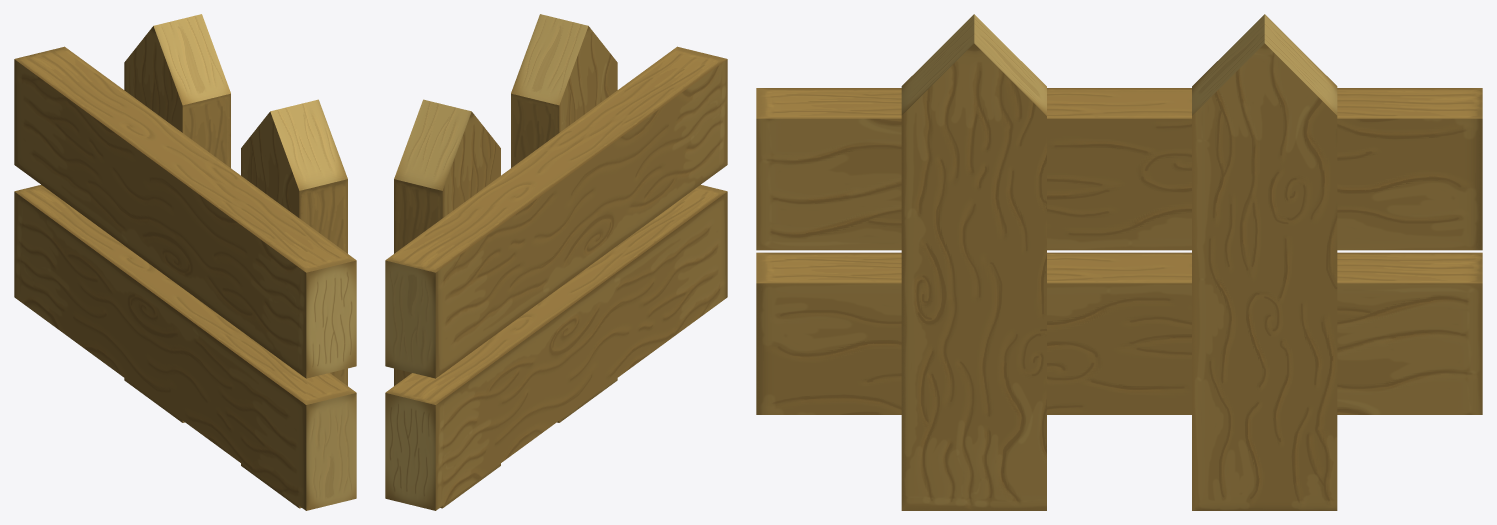
Rendered from Fence_ForestProp_002.fbx.
The picture shows the model from 3 angles, left to right: view 1: azimuth 30°, elevation 25°; view 2: azimuth 150°, elevation 25°; view 3: azimuth 270°, elevation 25°; orthographic projection. The views are drawn at different scales.
Parts seen in each view (by area): view 1: 立方体.006, 立方体.007, 立方体.008, 立方体.009; view 2: 立方体.006, 立方体.007, 立方体.009, 立方体.008; view 3: 立方体.006, 立方体.007, 立方体.008, 立方体.009.
Boxes of the visible parts, <box> form: 立方体.006: <box>14,46,356,378</box>; 立方体.007: <box>14,185,356,510</box>; 立方体.008: <box>241,99,347,508</box>; 立方体.009: <box>124,14,230,422</box>; 立方体.006: <box>385,46,727,378</box>; 立方体.007: <box>385,185,727,510</box>; 立方体.009: <box>394,99,500,508</box>; 立方体.008: <box>511,14,617,422</box>; 立方体.006: <box>756,88,1482,250</box>; 立方体.007: <box>756,252,1482,414</box>; 立方体.008: <box>901,14,1046,510</box>; 立方体.009: <box>1192,14,1337,510</box>.
Bounding box in the file's own units: 198 × 710 × 1000.
